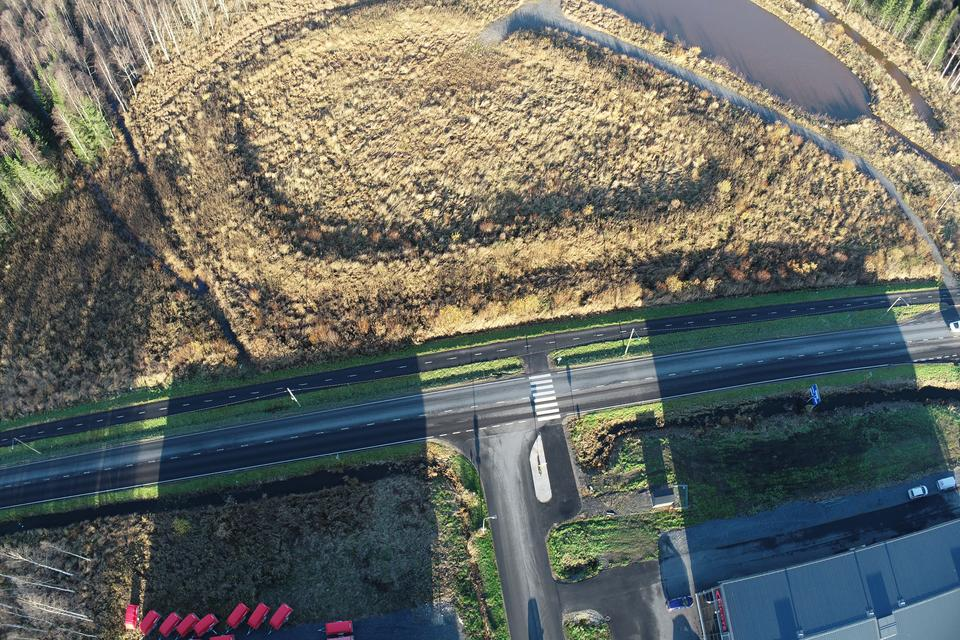intersection: (411, 316, 591, 547), (913, 245, 960, 385)
